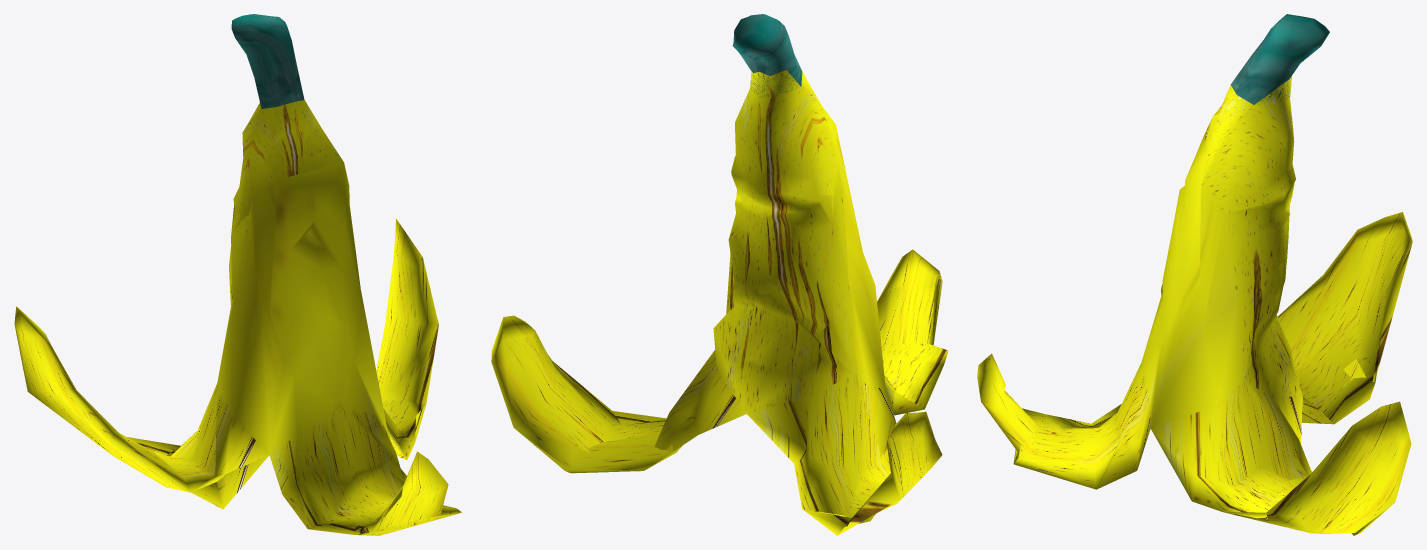
File: 03 banana peel.fbx
The picture shows the model from 3 angles, left to right: view 1: azimuth 30°, elevation 25°; view 2: azimuth 150°, elevation 25°; view 3: azimuth 270°, elevation 25°; orthographic projection. The views are drawn at different scales.
Visible parts, largest first — view 1: banana; view 2: banana; view 3: banana.
Boxes of the visible parts, x1=… form: banana: x1=14, y1=14, x2=462, y2=535; banana: x1=491, y1=14, x2=948, y2=535; banana: x1=977, y1=14, x2=1412, y2=535.
Size of the model in its own units: 20.5 by 22.34 by 19.81.
2 materials, 2 textured.
